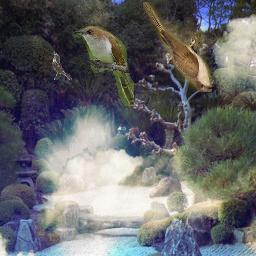Cuckoo: (144, 2, 213, 92), (72, 26, 134, 106)
Sparrow: (52, 52, 72, 81)
